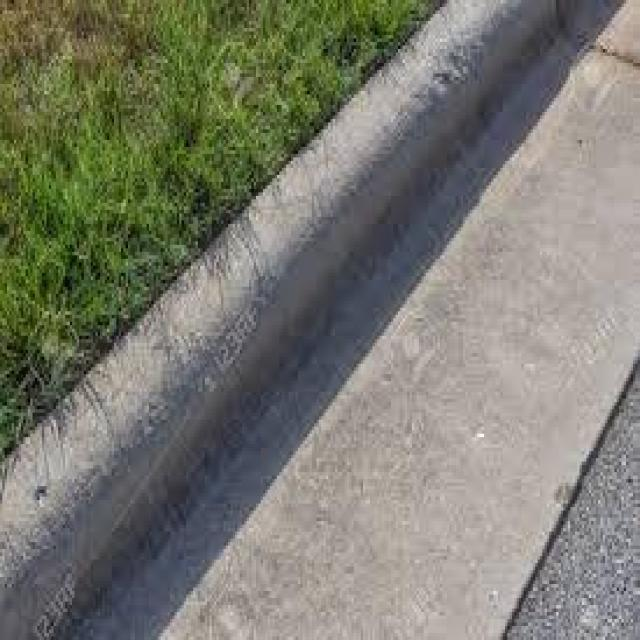curb: (1, 1, 564, 640)
